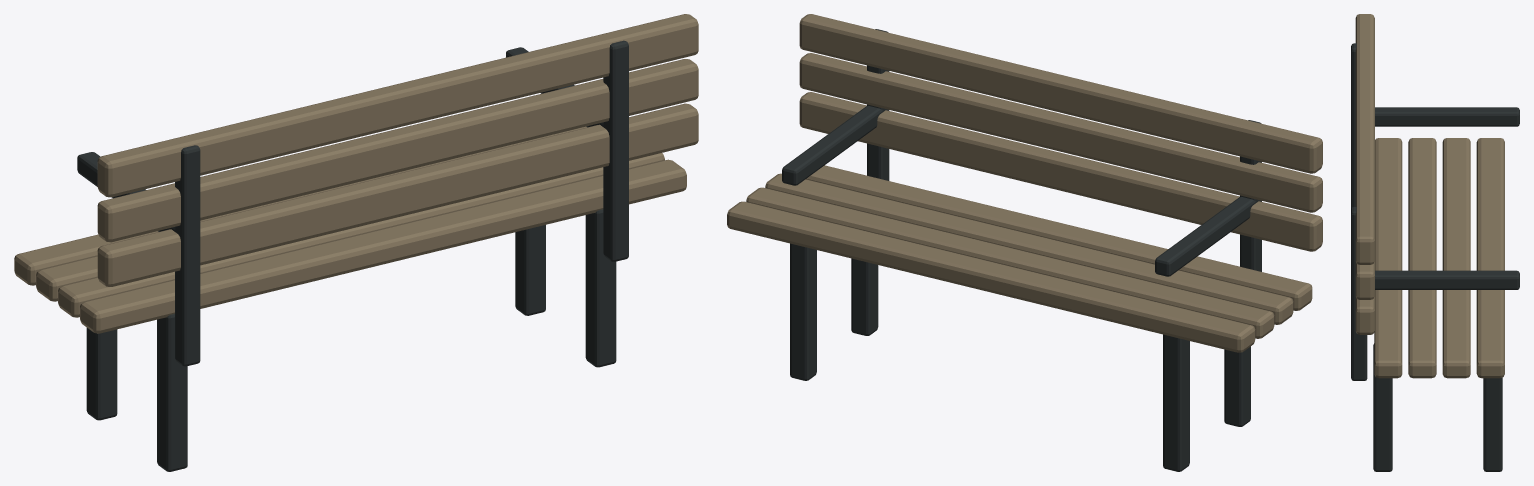
The model's file is REUSED_BENCH.fbx.
3 views of the same model, side by side, from view 1: azimuth 30°, elevation 25°; view 2: azimuth 150°, elevation 25°; view 3: azimuth 270°, elevation 25° (orthographic). The views are drawn at different scales.
Parts seen in each view (by area): view 1: UNITY_ASSET_REUSED_BENCH; view 2: UNITY_ASSET_REUSED_BENCH; view 3: UNITY_ASSET_REUSED_BENCH.
Part boxes in pixels (<box>): UNITY_ASSET_REUSED_BENCH: <box>14,14,698,471</box>; UNITY_ASSET_REUSED_BENCH: <box>727,14,1322,471</box>; UNITY_ASSET_REUSED_BENCH: <box>1351,14,1519,471</box>.
Bounding box in the file's own units: 1.8 × 0.9725 × 0.5675.
